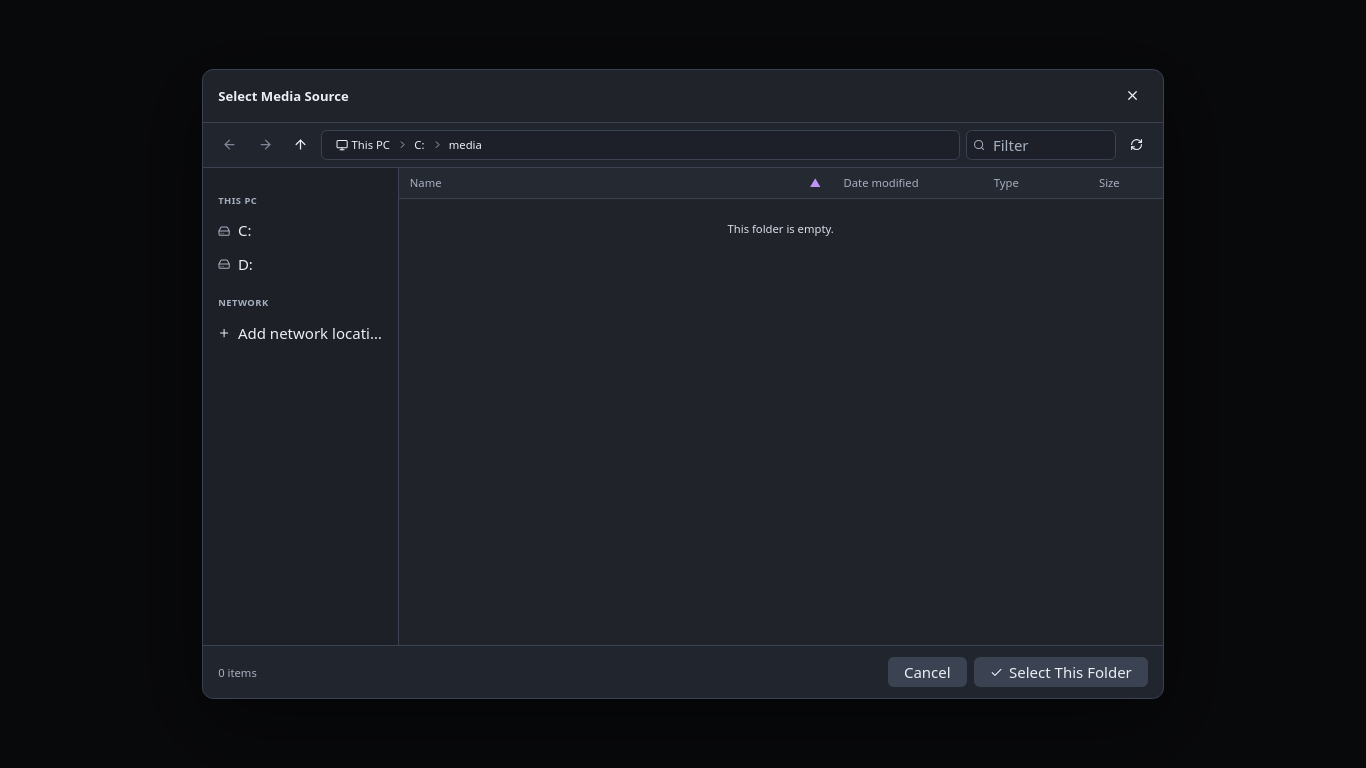
Test: file browser navigation › navigates to a UNC path typed into the address bar
Click the button with aria-label "Address bar" at (403, 145), box [322,130,960,160]
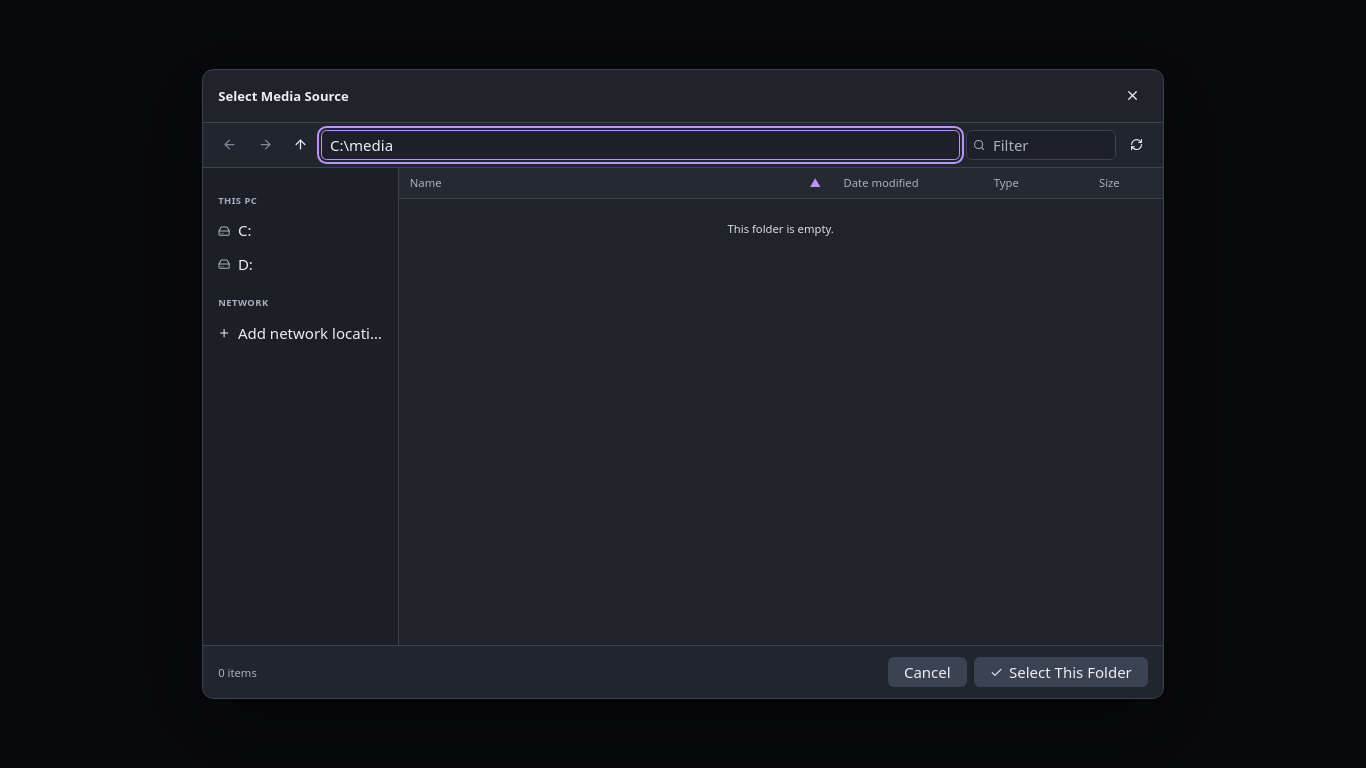
Replace the text in the field named "Path" with "\\\\nas\\downloads" at (641, 145), box [322,130,960,160]
Then press Enter
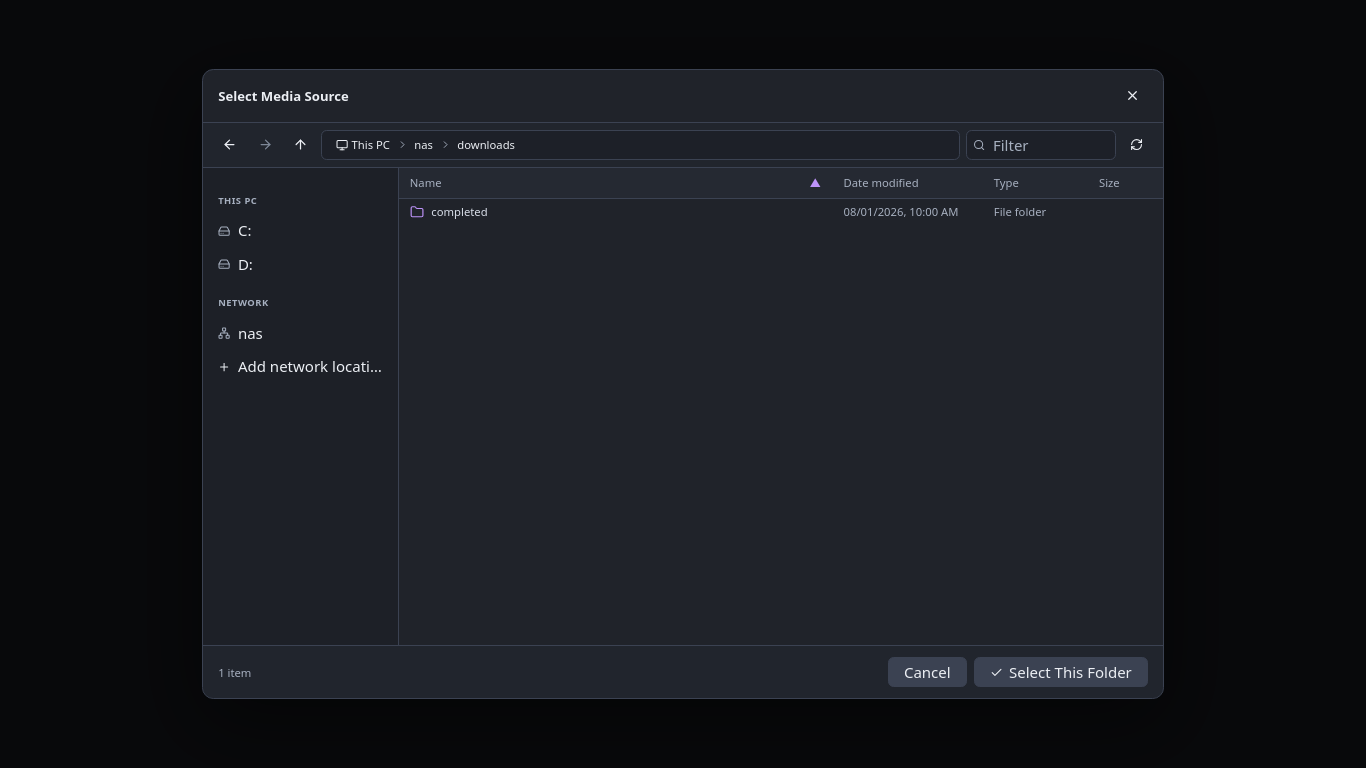
Expected: the text "completed" is shown, [431,204,488,219]
